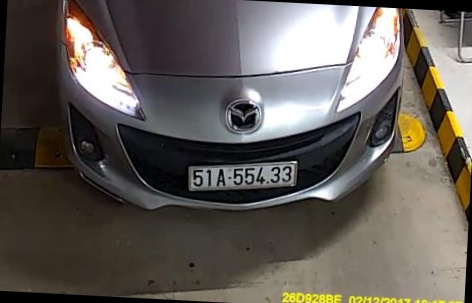plate: (181, 158, 299, 194)
